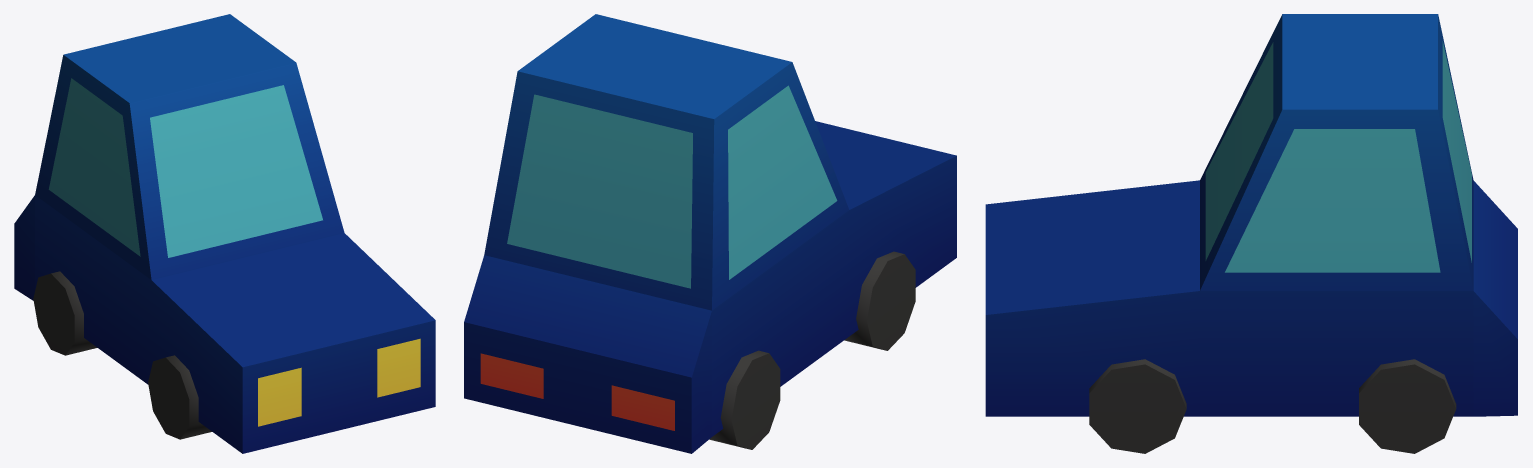
File: Car_4_4.fbx
The picture shows the model from 3 angles, left to right: view 1: azimuth 30°, elevation 25°; view 2: azimuth 150°, elevation 25°; view 3: azimuth 270°, elevation 25°; orthographic projection. The views are drawn at different scales.
Parts seen in each view (by area): view 1: Car_4_4; view 2: Car_4_4; view 3: Car_4_4.
Boxes of the visible parts, <box> form: Car_4_4: <box>14,14,435,453</box>; Car_4_4: <box>464,14,956,453</box>; Car_4_4: <box>985,14,1517,453</box>.
Size of the model in its own units: 211 by 270 by 393.
